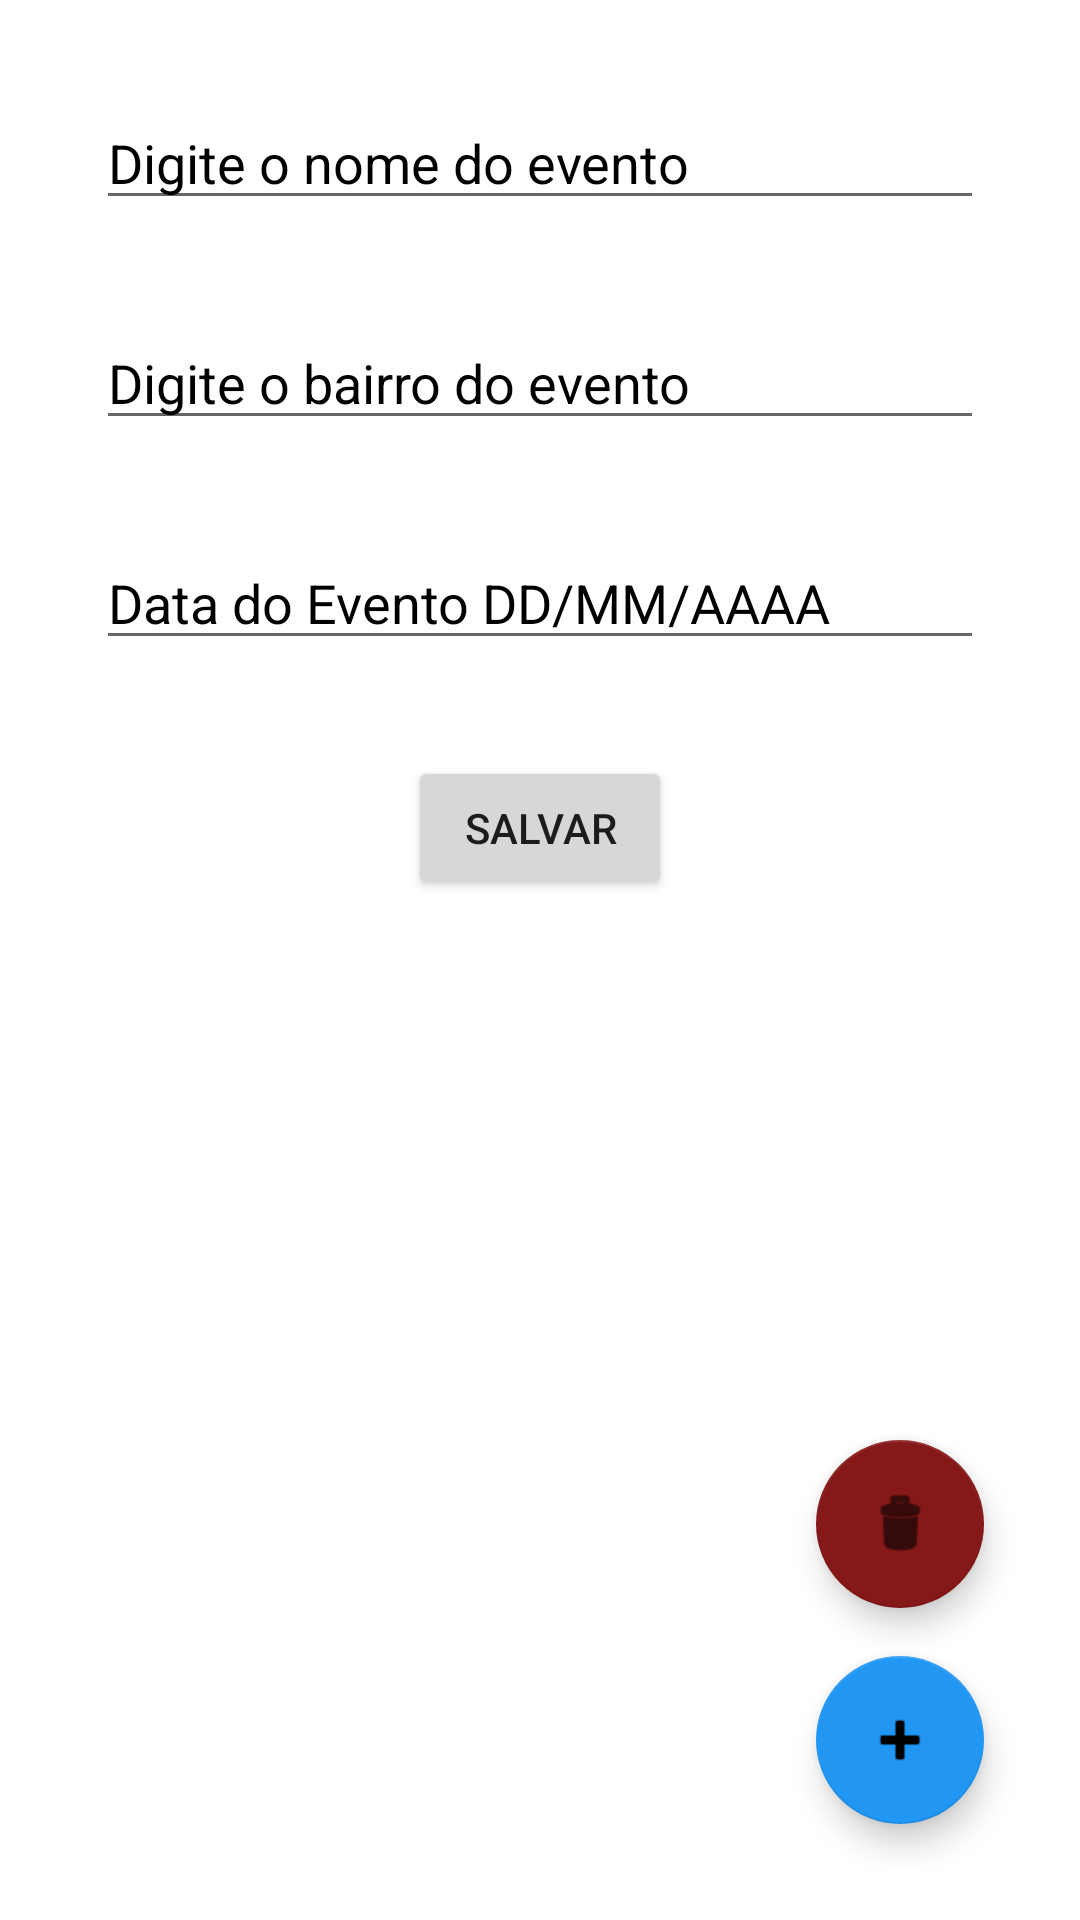

Where icons sit on this 1080px x 1920px app screen, as (x1, y1, x2, y2):
add: (816, 1656, 984, 1824)
delete: (816, 1440, 984, 1608)
